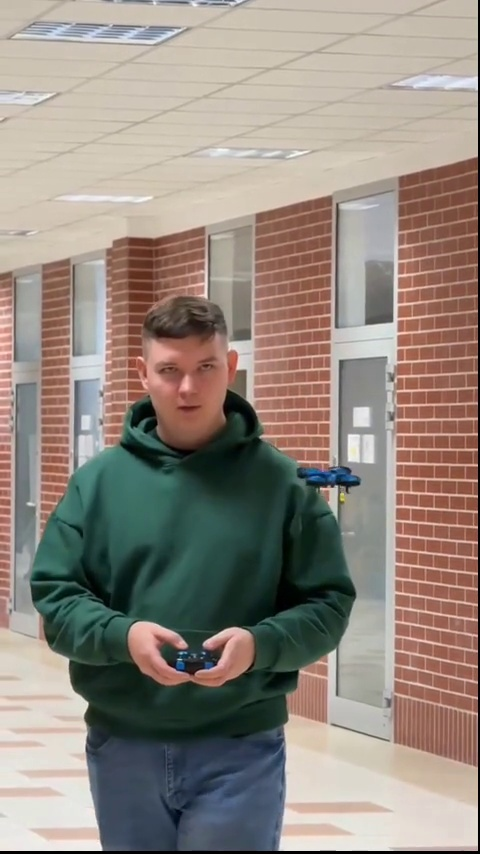drone: (293, 462, 360, 492)
no vest: (38, 295, 365, 824)
